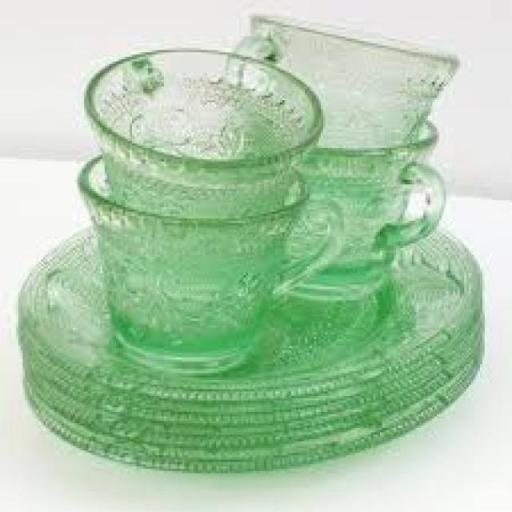glass: (16, 222, 478, 476), (79, 52, 333, 368), (230, 0, 460, 158), (270, 114, 446, 302)
